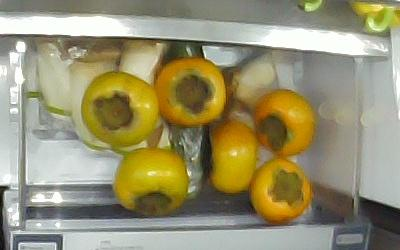persimmon: (80, 72, 159, 147), (155, 58, 227, 127), (113, 149, 188, 213), (253, 89, 316, 156), (250, 159, 312, 224), (207, 123, 258, 193)
